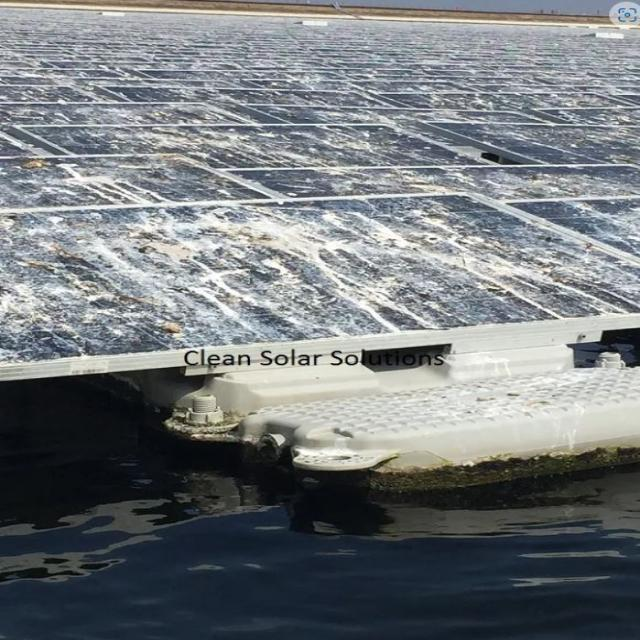Anomaly Solar Panel: (1, 4, 639, 366)
Surface Contaminant: (2, 2, 639, 360)
